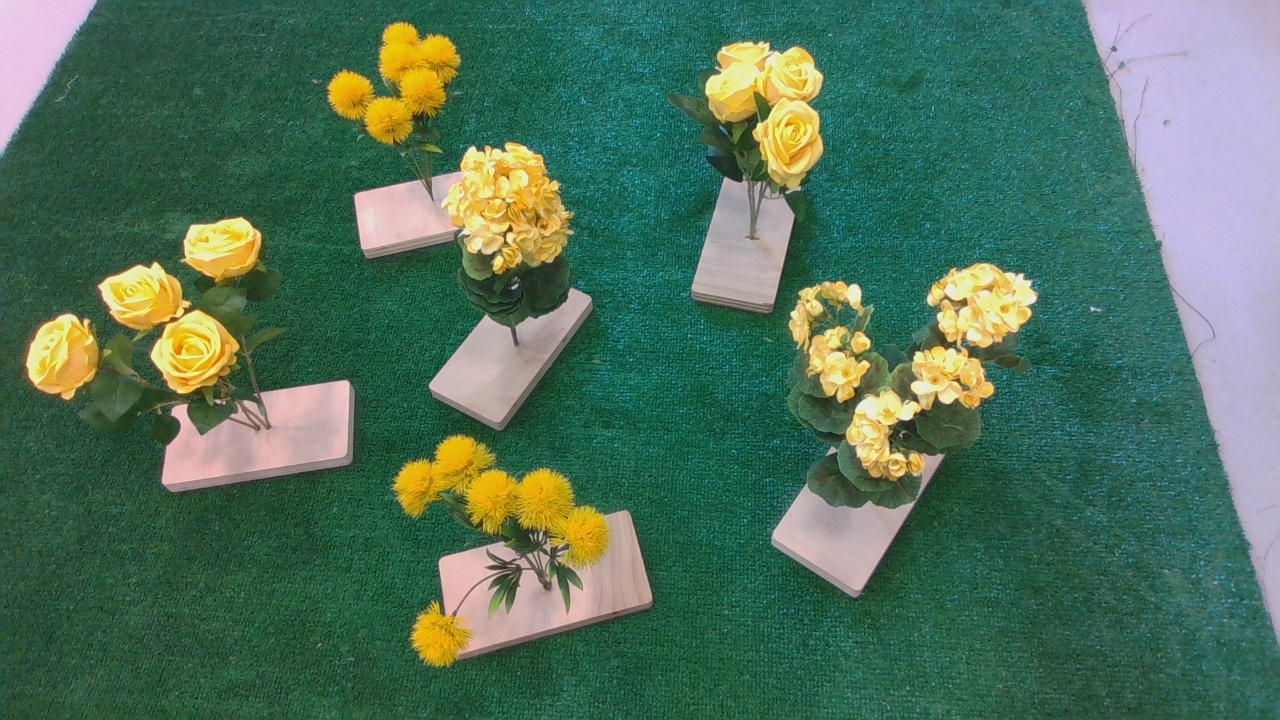dandelion: (385, 435, 621, 683), (328, 24, 470, 154)
geranium: (779, 263, 1054, 521), (443, 140, 595, 337)
rose: (33, 220, 287, 458), (695, 43, 832, 244)
